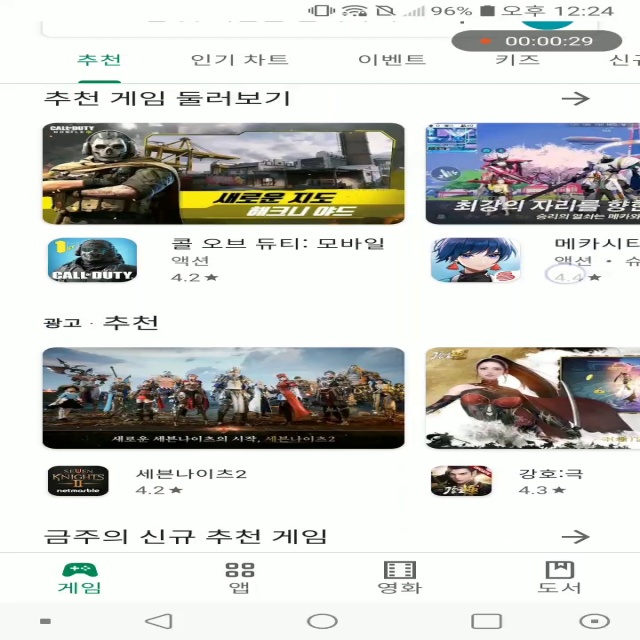Cursor: (545, 264, 590, 286)
